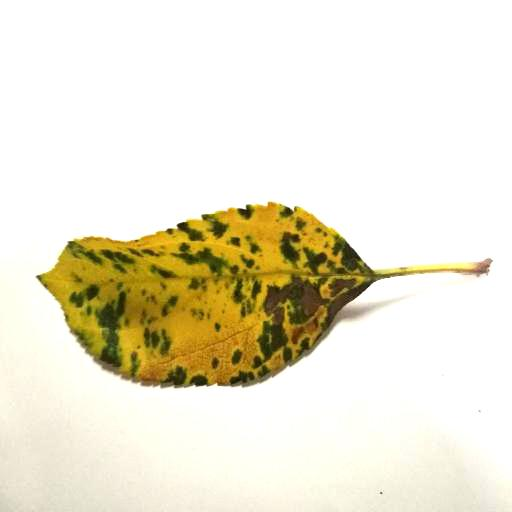Brown_Spot: (246, 273, 363, 353)
